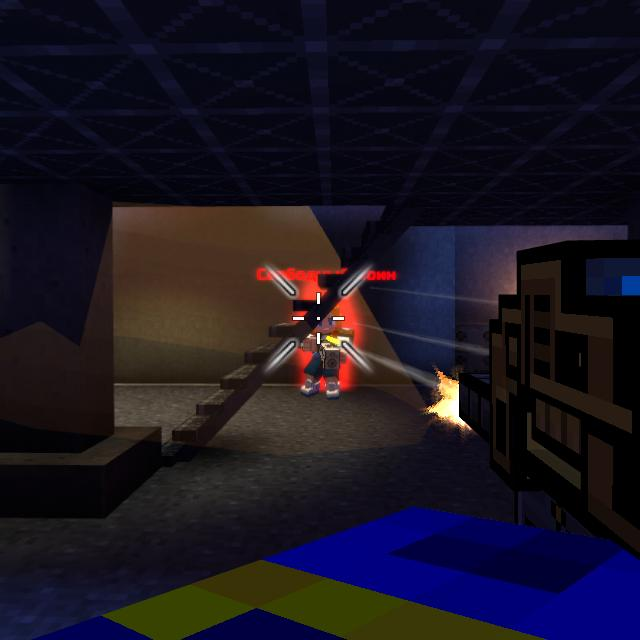Enemy: (300, 304, 354, 400)
